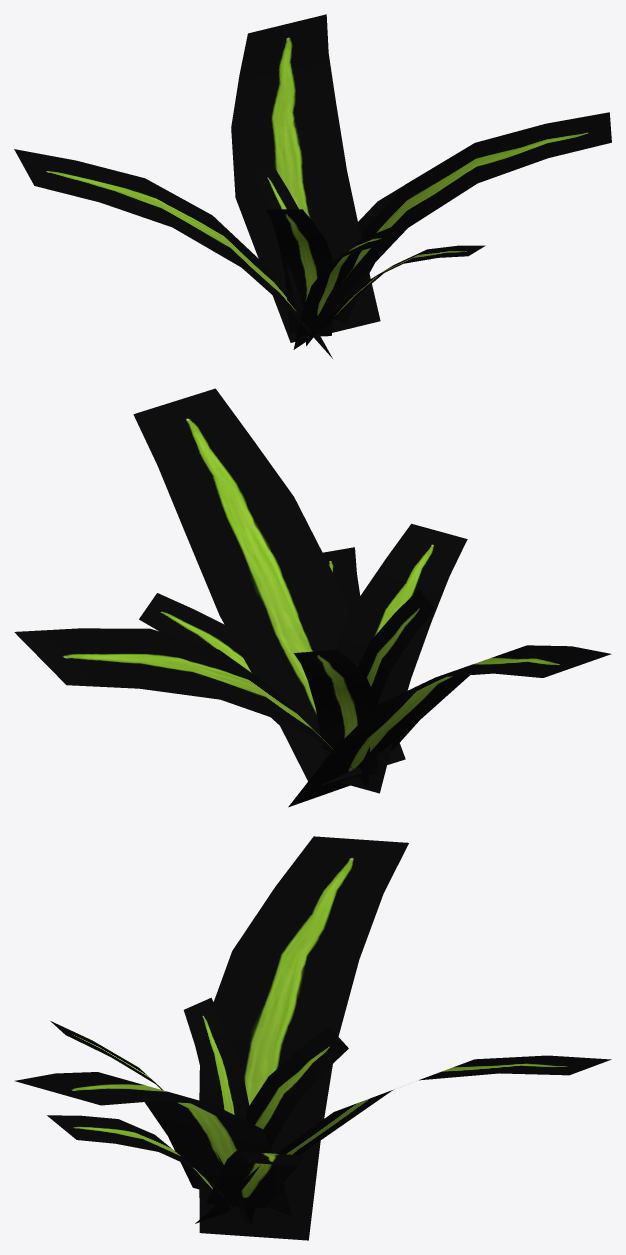
Rendered from rumput 2.fbx.
3 views of the same model, one above another, from view 1: azimuth 30°, elevation 25°; view 2: azimuth 150°, elevation 25°; view 3: azimuth 270°, elevation 25° (orthographic). The views are drawn at different scales.
Visible parts, largest first — view 1: rumput 2; view 2: rumput 2; view 3: rumput 2.
Boxes of the visible parts, x1=… form: rumput 2: x1=14, y1=14, x2=611, y2=358; rumput 2: x1=14, y1=388, x2=611, y2=807; rumput 2: x1=15, y1=836, x2=611, y2=1240.
Bounding box in the file's own units: 188 × 82.01 × 163.
Materials: 1 (1 with a texture image).
